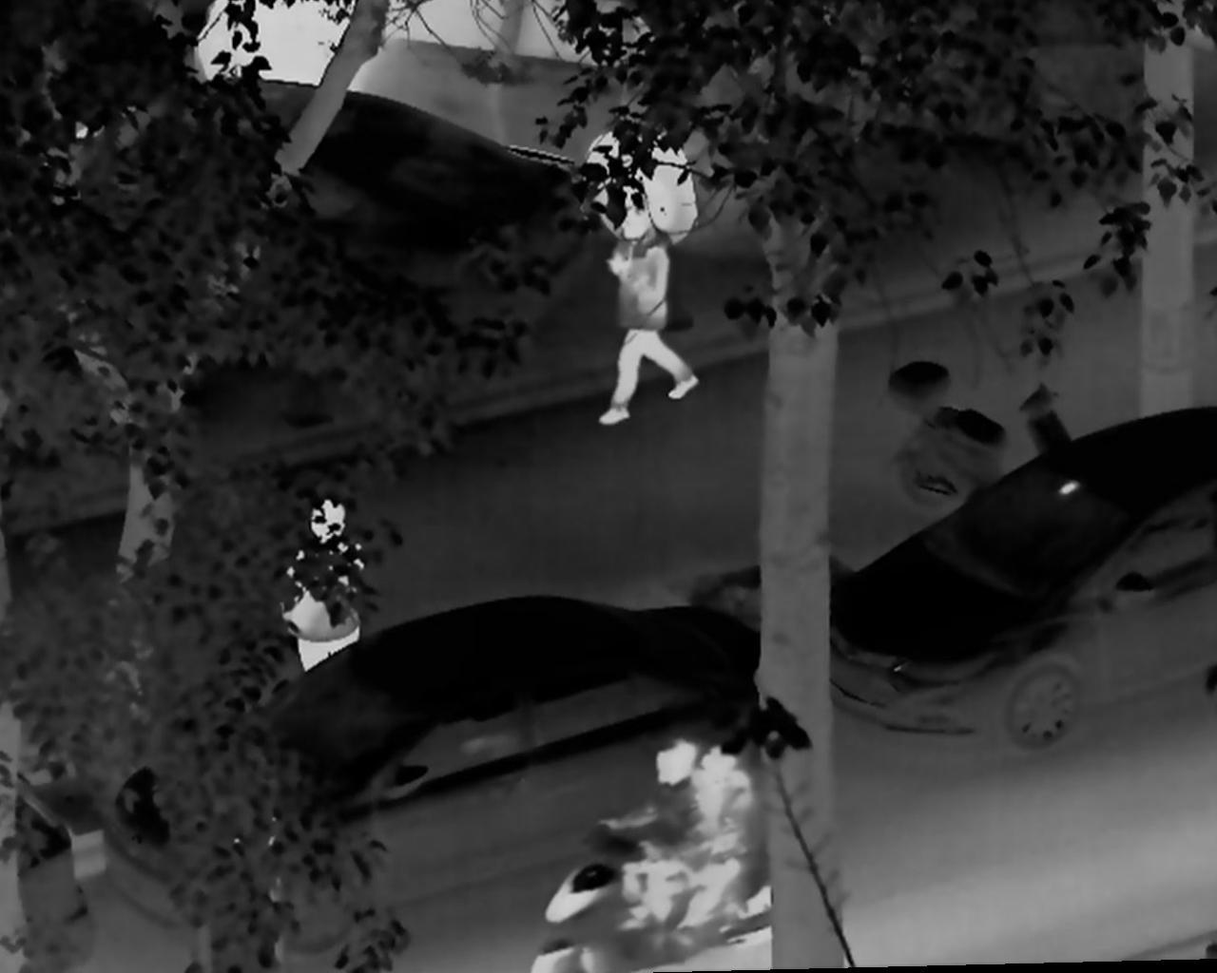person: (589, 204, 701, 431), (672, 723, 781, 949), (602, 720, 704, 961), (277, 495, 369, 677)
